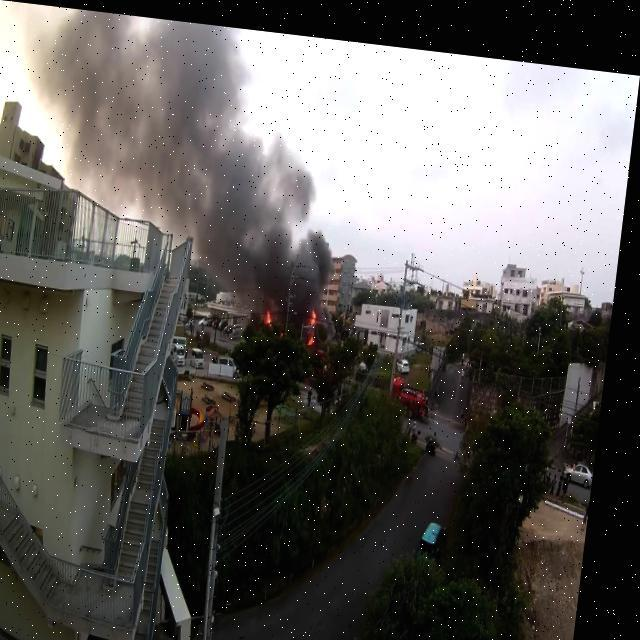Fire: (314, 298, 326, 319), (313, 324, 323, 338), (272, 304, 280, 318)
